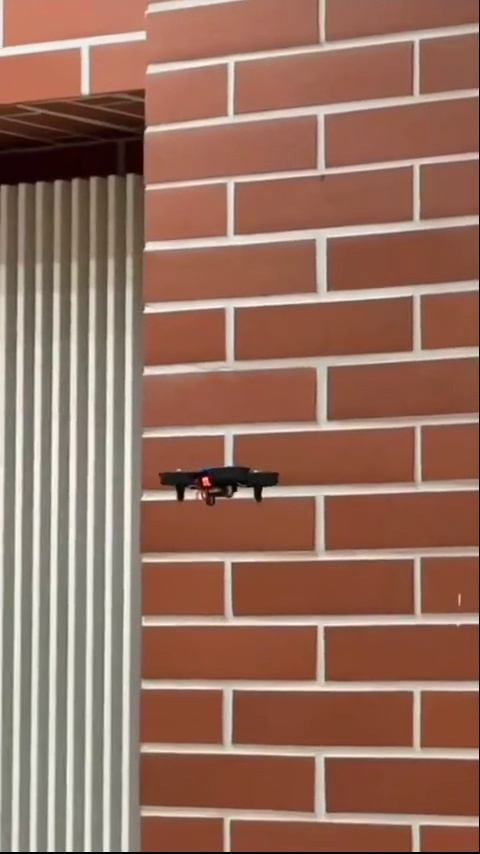drone: (158, 456, 280, 511)
